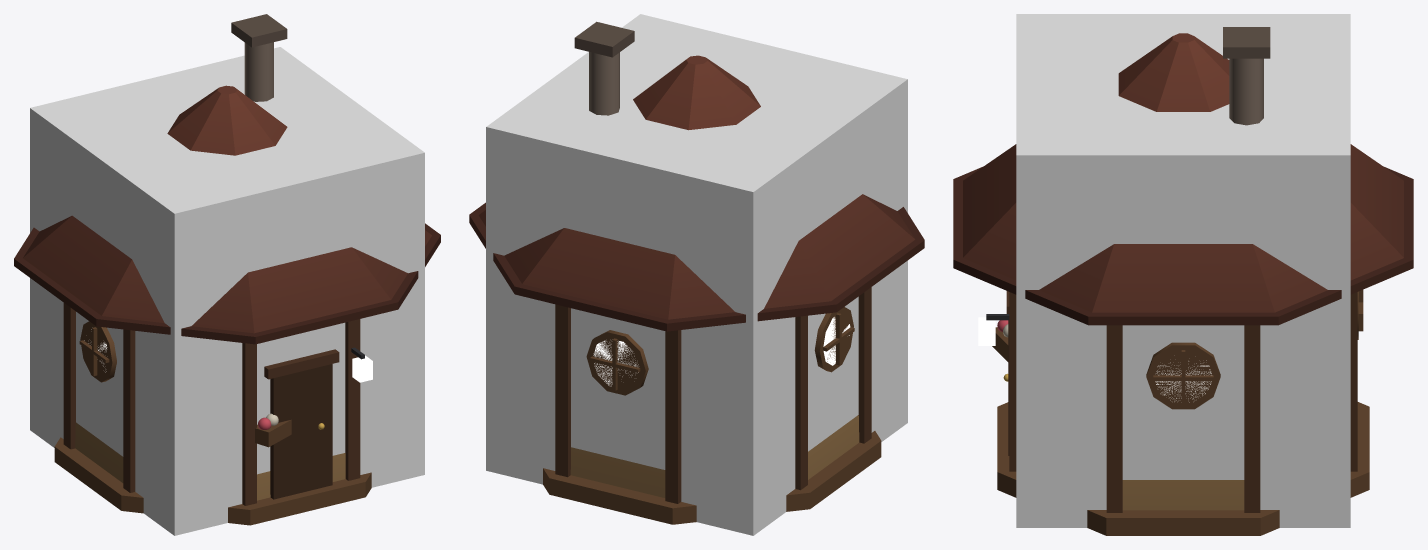
The model's file is casa_copa_miel.glb.
3 views of the same model, side by side, from view 1: azimuth 30°, elevation 25°; view 2: azimuth 150°, elevation 25°; view 3: azimuth 270°, elevation 25° (orthographic). The views are drawn at different scales.
Parts seen in each view (by area): view 1: COL_0, casa_copa_miel_Malla; view 2: COL_0, casa_copa_miel_Malla; view 3: COL_0, casa_copa_miel_Malla.
Boxes of the visible parts, x1,y1,x2,y2 form: COL_0: [30, 47, 424, 535]; casa_copa_miel_Malla: [14, 14, 440, 525]; COL_0: [486, 14, 907, 535]; casa_copa_miel_Malla: [469, 21, 924, 524]; COL_0: [1016, 14, 1350, 527]; casa_copa_miel_Malla: [953, 27, 1413, 535].
Size of the model in its own units: 5.82 by 6.33 by 5.82.
